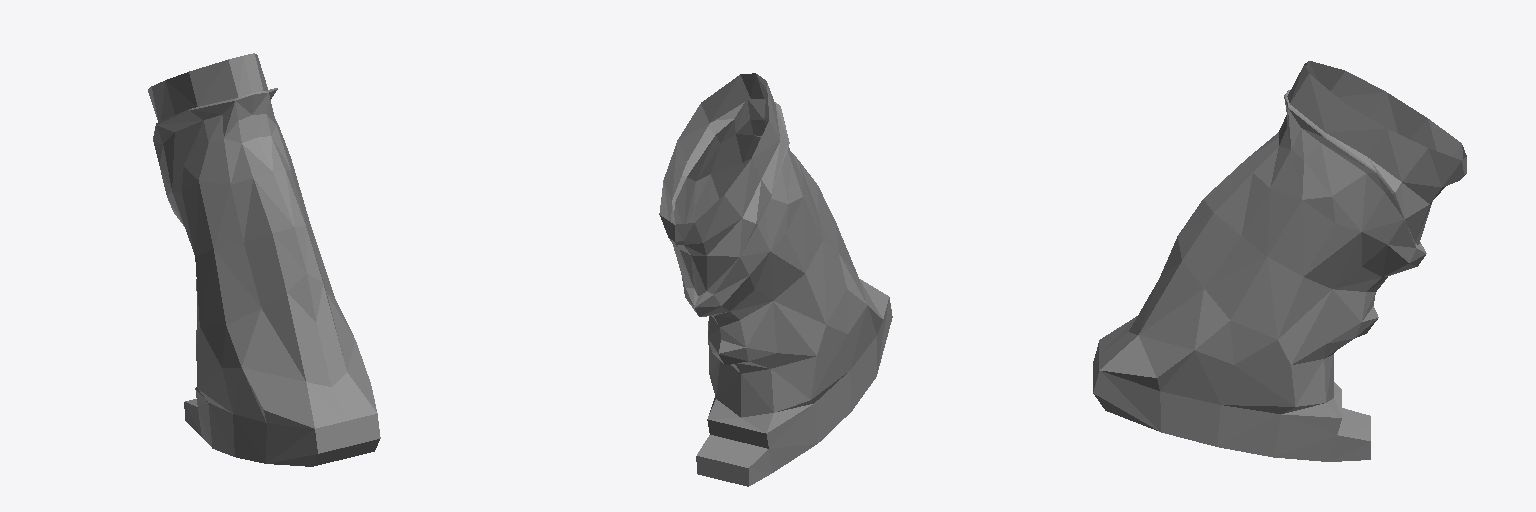
Rendered from grip2.obj.
The picture shows the model from 3 angles: view 1: azimuth 30°, elevation 25°; view 2: azimuth 150°, elevation 25°; view 3: azimuth 270°, elevation 25°; orthographic projection.
Parts seen in each view (by area): view 1: grip2; view 2: grip2; view 3: grip2.
Part boxes in pixels (bbox=[...]): grip2: bbox=[148, 53, 380, 466]; grip2: bbox=[659, 73, 892, 486]; grip2: bbox=[1093, 61, 1466, 461].
Size of the model in its own units: 4.51 by 14.46 by 12.78.